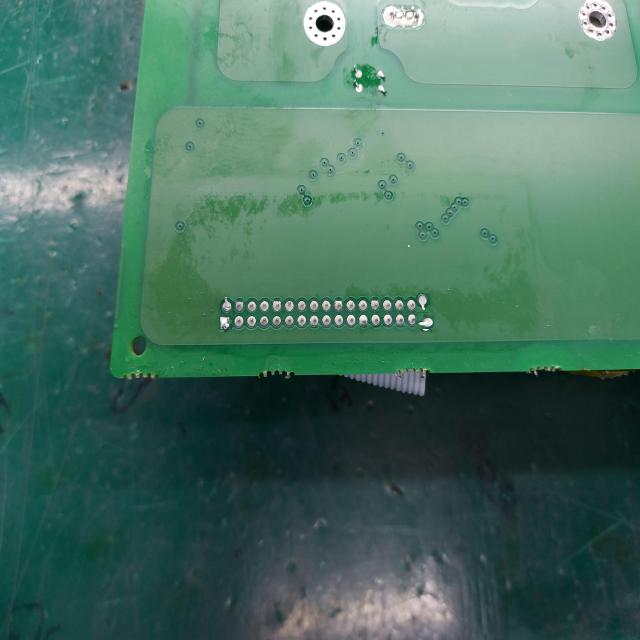slug: (218, 291, 232, 316), (417, 314, 433, 331), (416, 293, 430, 312), (218, 314, 232, 332)
